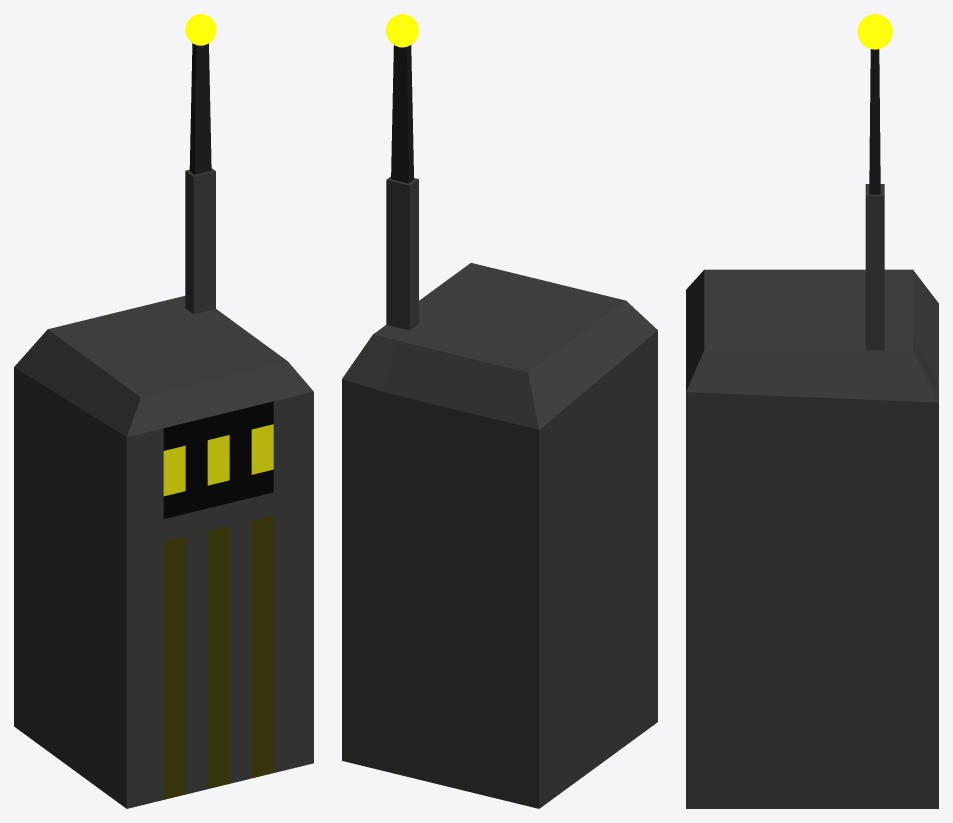
The model's file is jammerYellow.fbx.
3 views of the same model, side by side, from view 1: azimuth 30°, elevation 25°; view 2: azimuth 150°, elevation 25°; view 3: azimuth 270°, elevation 25° (orthographic). The views are drawn at different scales.
Parts seen in each view (by area): view 1: Cube.001; view 2: Cube.001; view 3: Cube.001.
Part boxes in pixels (<box>): Cube.001: <box>14,14,313,808</box>; Cube.001: <box>342,14,657,808</box>; Cube.001: <box>686,14,938,808</box>.
Bounding box in the file's own units: 38.82 × 137 × 40.48.
